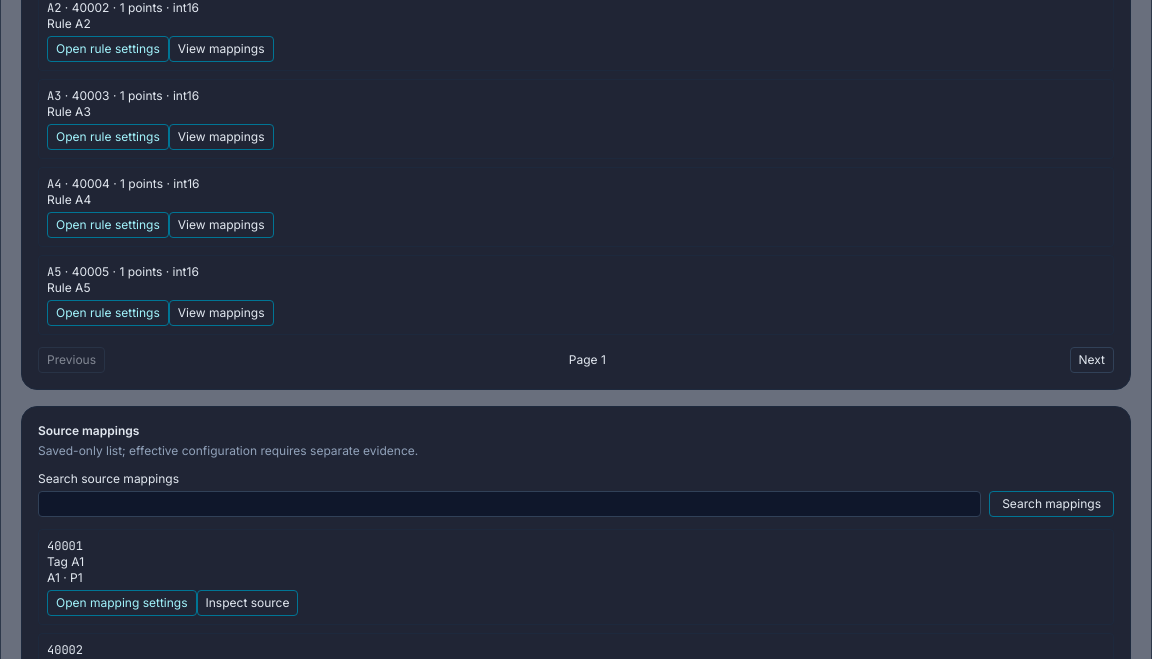
Test case: bounded runtime source lists › makes all six rules and ten mappings inspectable without per-row fan-out
This screenshot has width=1152, height=659.
(page scrolled)
Expected: the button with aria-label "Inspect source 40001" is shown, [196,590,298,616]
Expected: the button with aria-label "Show mappings for A2" is shown, [169,36,274,62]
Click the button with aria-label "Next source rules page" at coordinates (1092, 360), box [1070,347,1114,373]
(page scrolled)
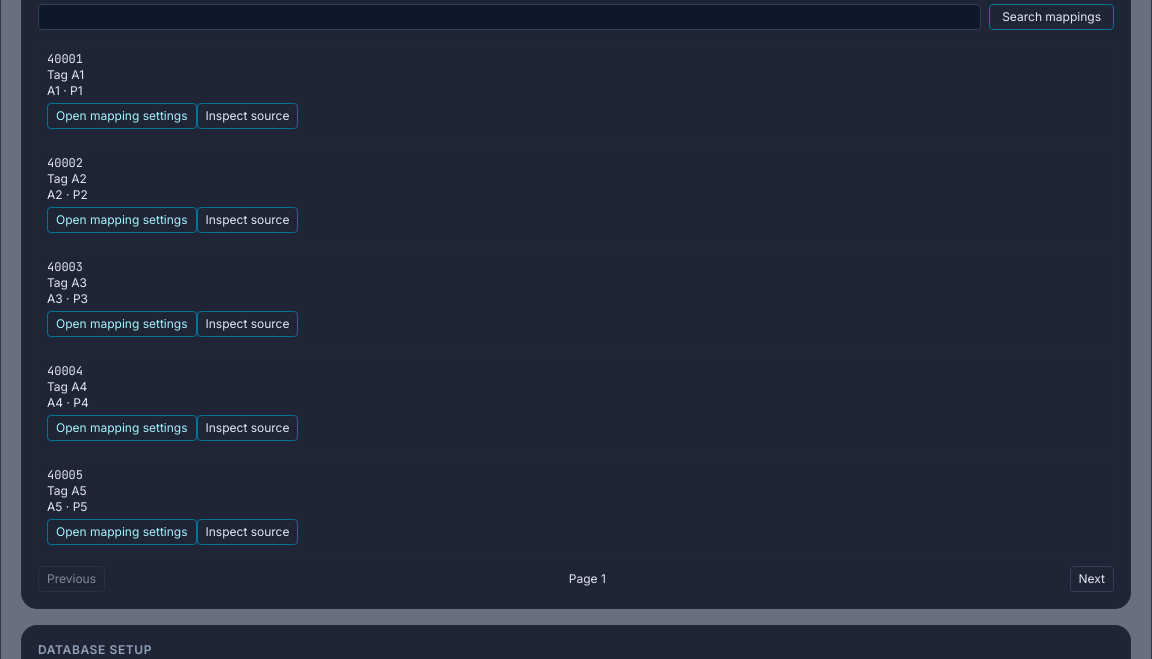
Click the button with aria-label "Next source mappings page" at coordinates (1092, 579), box [1070,566,1114,592]
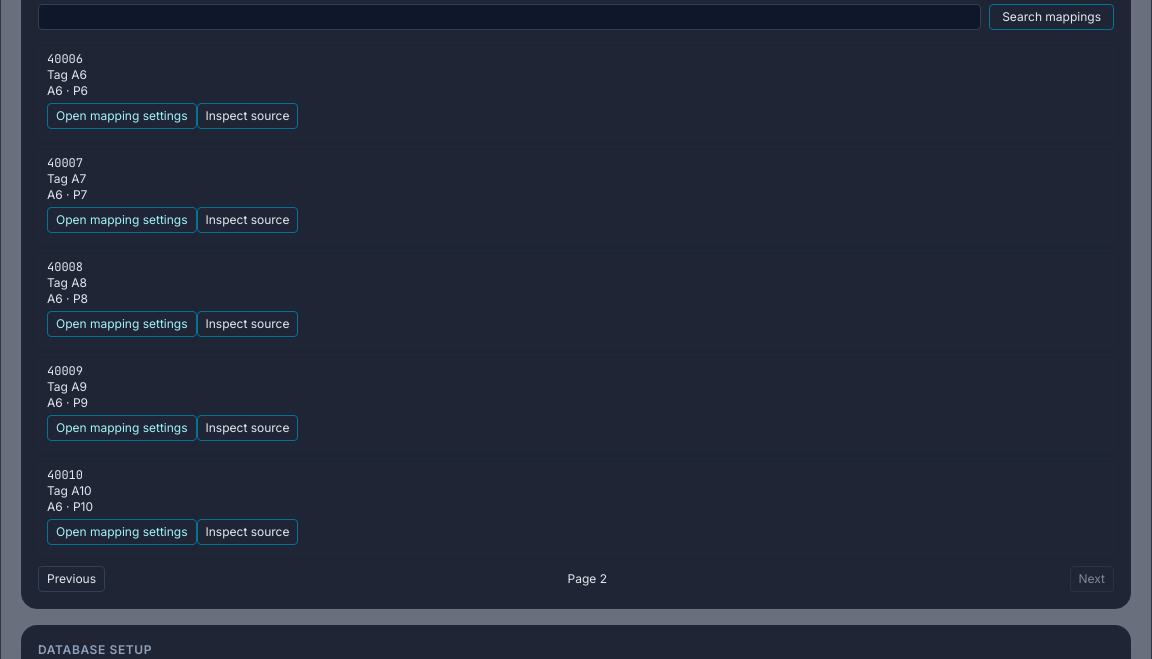
Expected: the button with aria-label "Inspect source 40010" is shown, [196,519,298,545]
Click the button with aria-label "Inspect source 40006" at coordinates (248, 116), box [196,103,298,129]
(page scrolled)
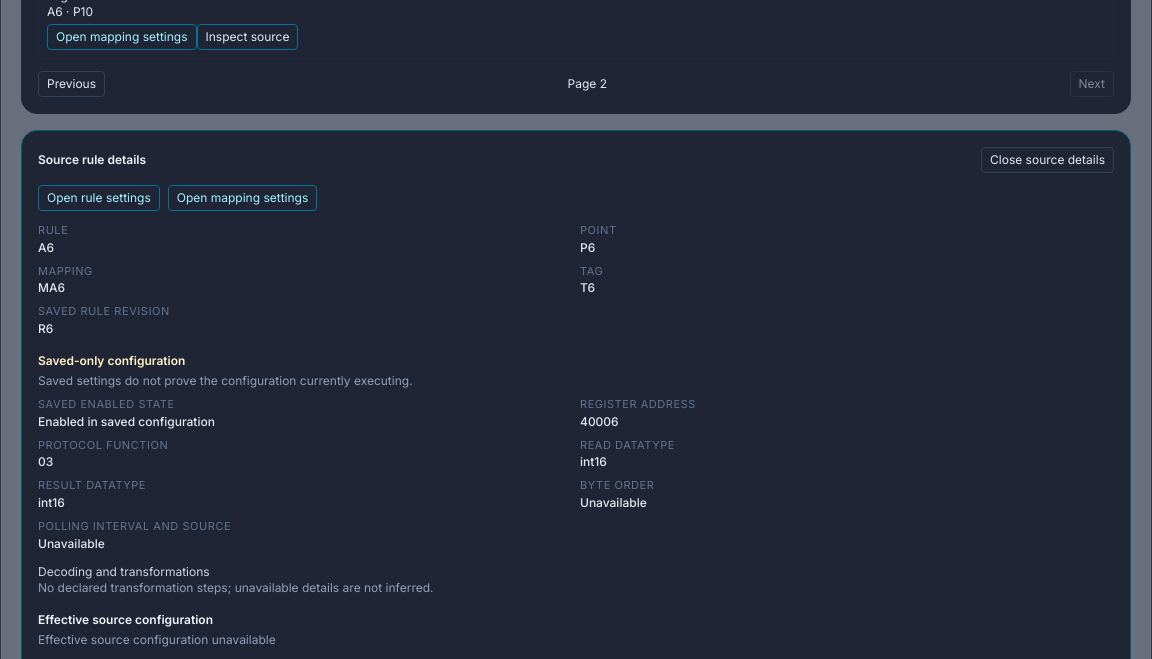
Expected: the heading "Saved-only configuration" is shown, [38,353,185,368]
